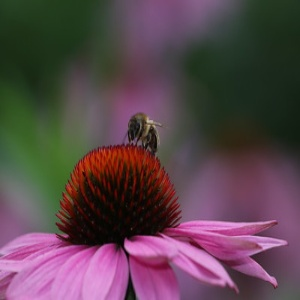bee: (127, 111, 163, 152)
